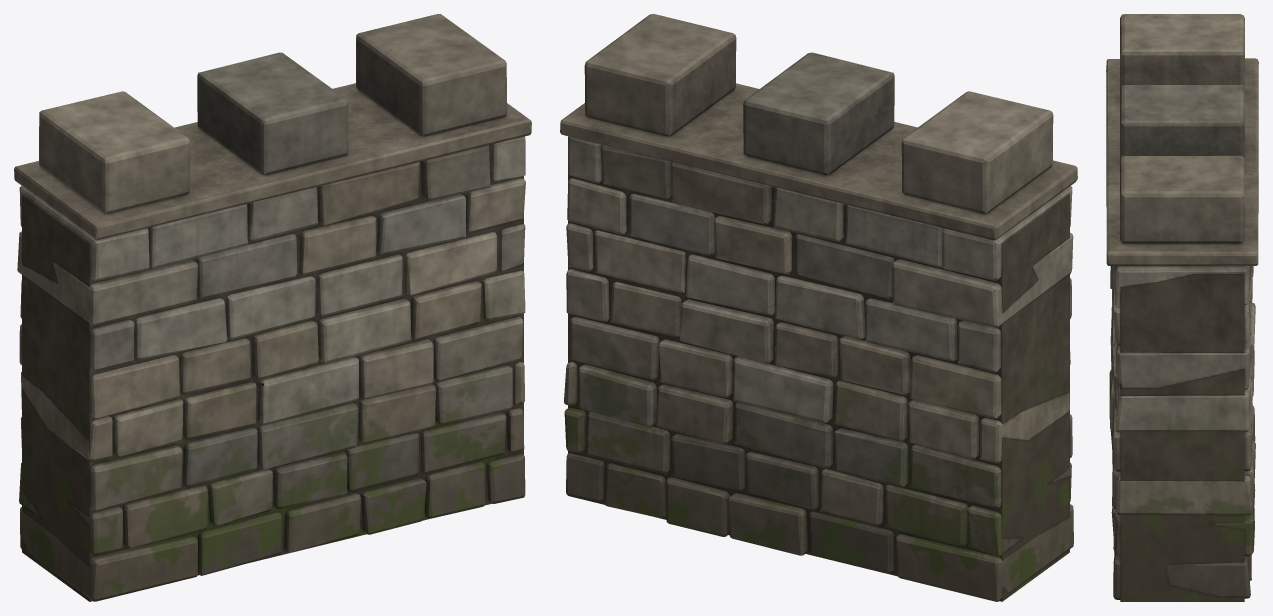
Rendered from cenario_muro_cal_b.glb.
3 views of the same model, side by side, from view 1: azimuth 30°, elevation 25°; view 2: azimuth 150°, elevation 25°; view 3: azimuth 270°, elevation 25° (orthographic). The views are drawn at different scales.
Visible parts, largest first — view 1: cenario_muro_cal_b_tronco; view 2: cenario_muro_cal_b_tronco; view 3: cenario_muro_cal_b_tronco.
Part boxes in pixels (x1,y1,x2,y2): cenario_muro_cal_b_tronco: [14, 14, 531, 601]; cenario_muro_cal_b_tronco: [560, 14, 1077, 601]; cenario_muro_cal_b_tronco: [1106, 14, 1258, 601].
Bounding box in the file's own units: 4 × 3.84 × 1.32.
Materials: 1 (1 with a texture image).
